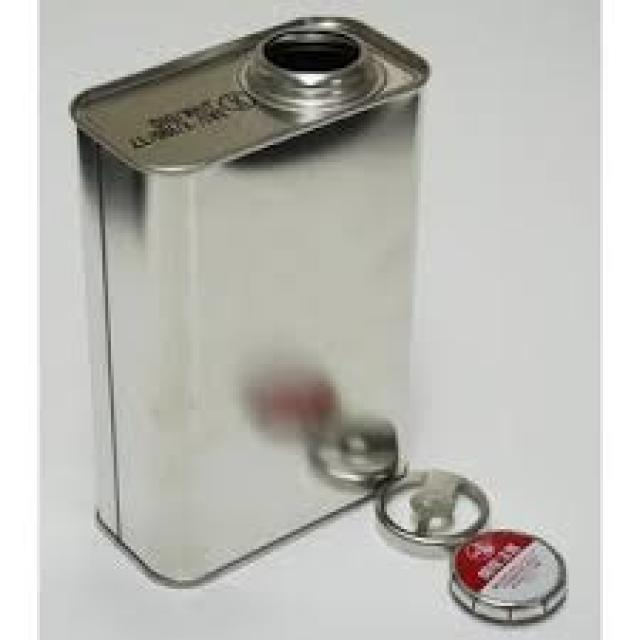metal: (66, 11, 427, 586), (449, 526, 566, 620), (376, 469, 490, 555)
